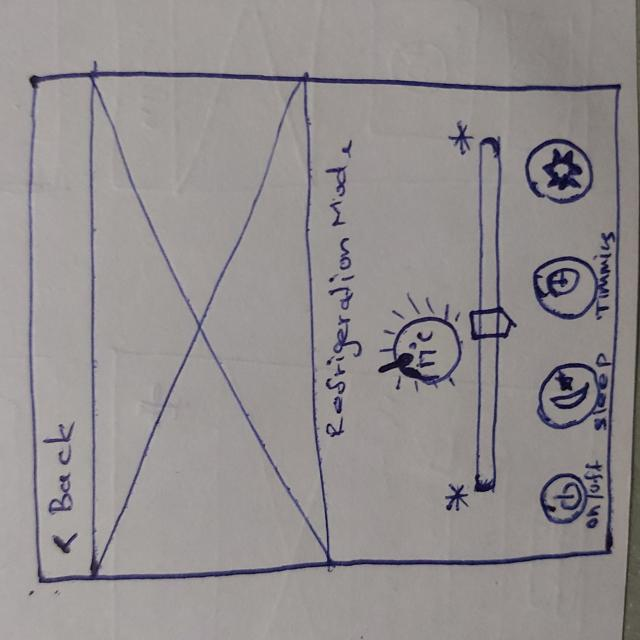AppBar: (28, 72, 94, 582)
BackButton: (49, 528, 82, 557)
Icon: (375, 295, 467, 392)
IconButton: (525, 136, 595, 202), (533, 257, 600, 319), (539, 360, 597, 429), (540, 471, 587, 524)
Image: (91, 72, 327, 576)
MainLayout: (27, 70, 616, 586)
Slider: (449, 121, 517, 513)
TextView: (322, 140, 351, 438), (46, 419, 77, 513), (599, 230, 616, 319), (596, 353, 610, 434), (585, 460, 601, 530)
